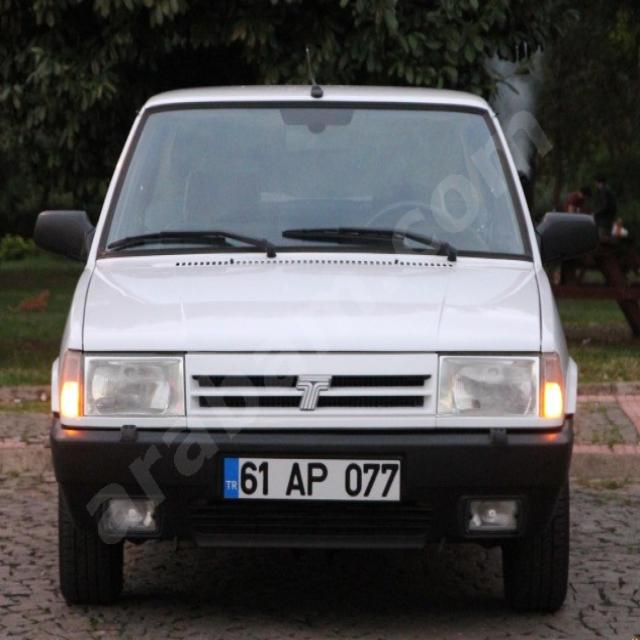license_plate: (222, 456, 402, 501)
